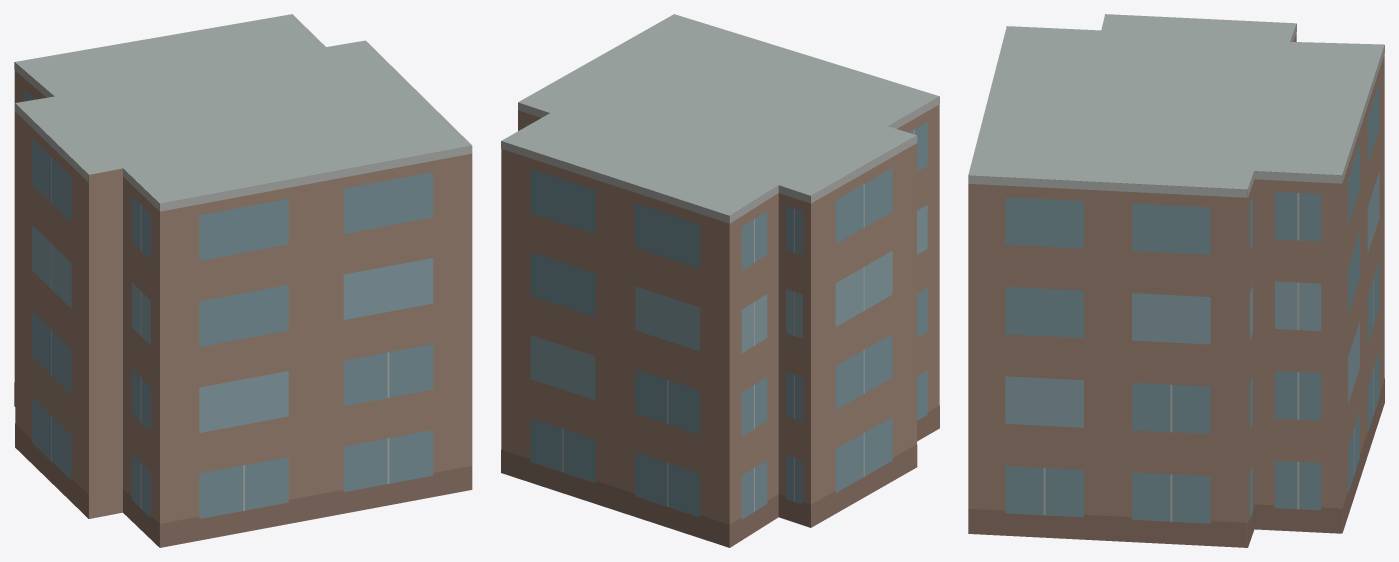
File: survey-upis-32688913.glb
The picture shows the model from 3 angles, left to right: view 1: azimuth 30°, elevation 25°; view 2: azimuth 150°, elevation 25°; view 3: azimuth 270°, elevation 25°; orthographic projection. The views are drawn at different scales.
Parts seen in each view (by area): view 1: survey-upis-32688913.tmp; view 2: survey-upis-32688913.tmp; view 3: survey-upis-32688913.tmp.
Part boxes in pixels (<box>): survey-upis-32688913.tmp: <box>14,14,472,547</box>; survey-upis-32688913.tmp: <box>501,14,939,547</box>; survey-upis-32688913.tmp: <box>968,14,1384,547</box>.
Size of the model in its own units: 10.93 by 10.4 by 10.97.
